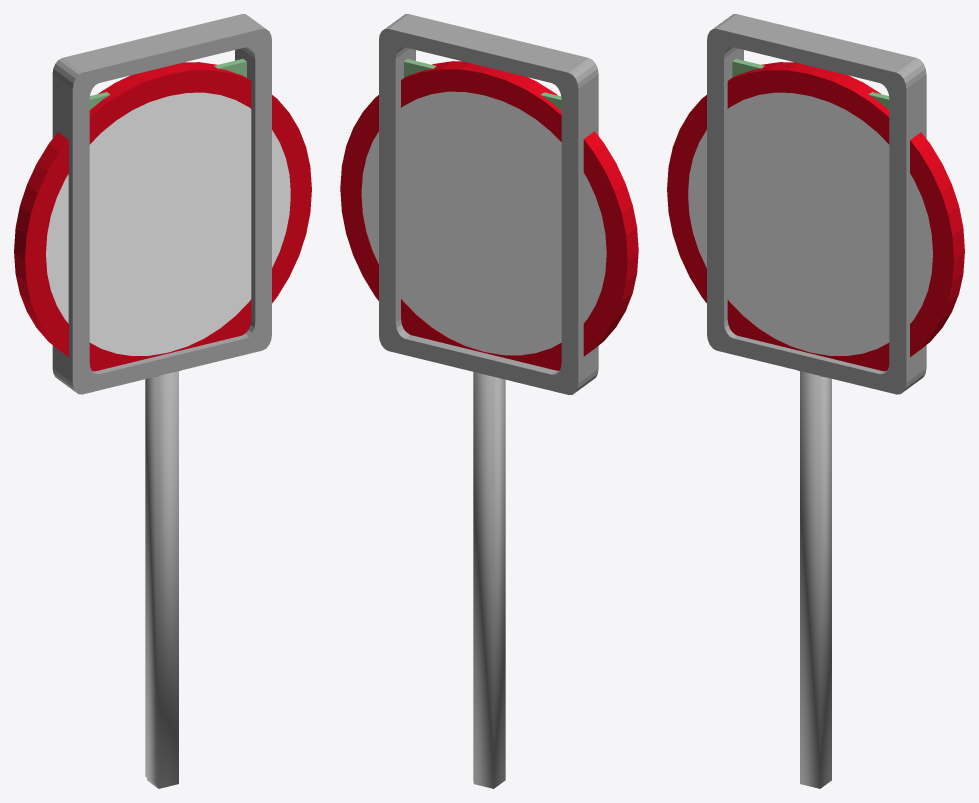
Rendered from SpeedLimitingSign.fbx.
The picture shows the model from 3 angles, left to right: view 1: azimuth 30°, elevation 25°; view 2: azimuth 150°, elevation 25°; view 3: azimuth 330°, elevation 25°; orthographic projection.
Visible parts, largest first — view 1: busStop.001, busStop; view 2: busStop.001, busStop; view 3: busStop.001, busStop.
Boxes of the visible parts, <box> form: busStop.001: <box>14,62,311,788</box>; busStop: <box>52,14,271,785</box>; busStop.001: <box>340,61,638,788</box>; busStop: <box>379,14,598,786</box>; busStop.001: <box>667,62,964,788</box>; busStop: <box>707,14,926,394</box>.
Bounding box in the file's own units: 6.62 × 16.29 × 0.8099.
